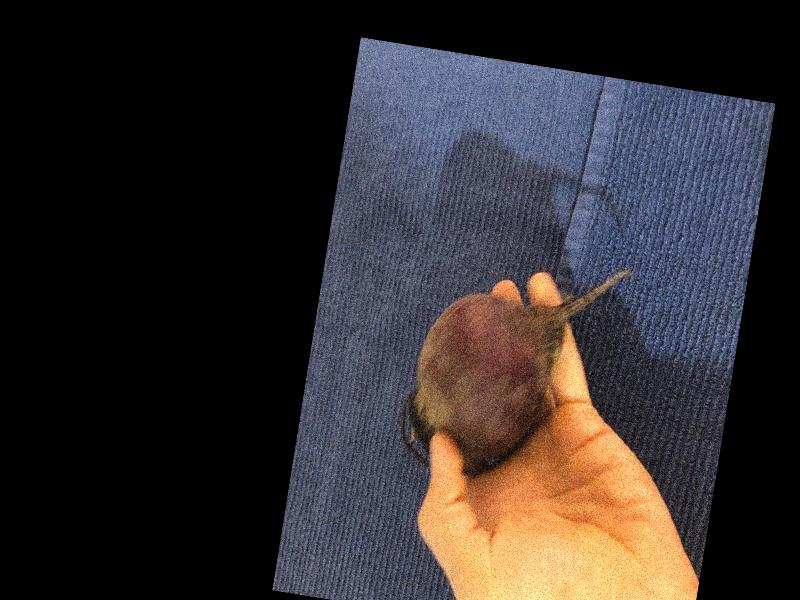Beet: (393, 236, 633, 493)
